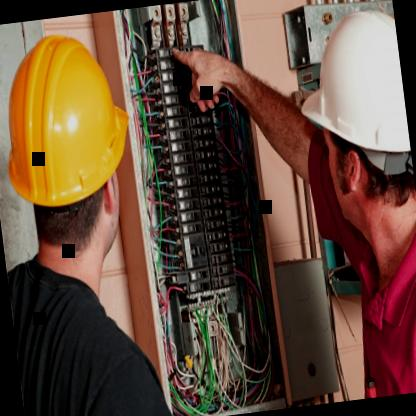helmet: (0, 8, 167, 313), (270, 0, 416, 298)
